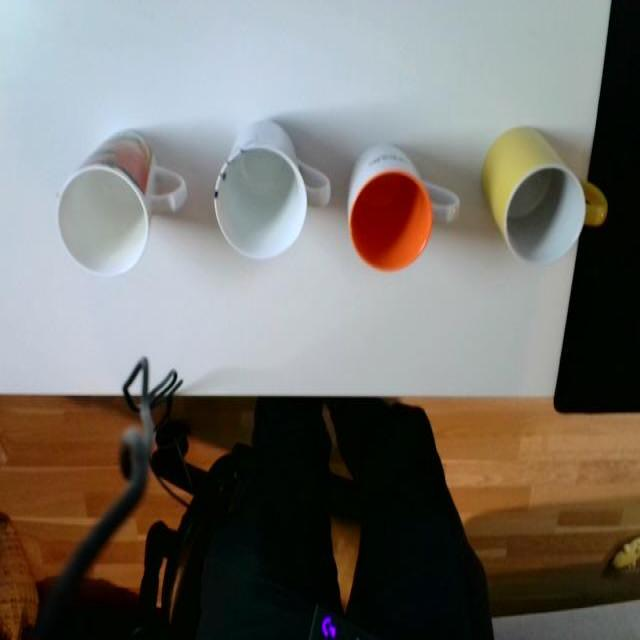cup: (482, 114, 616, 284), (53, 130, 190, 286), (202, 108, 332, 264), (346, 130, 459, 280)
